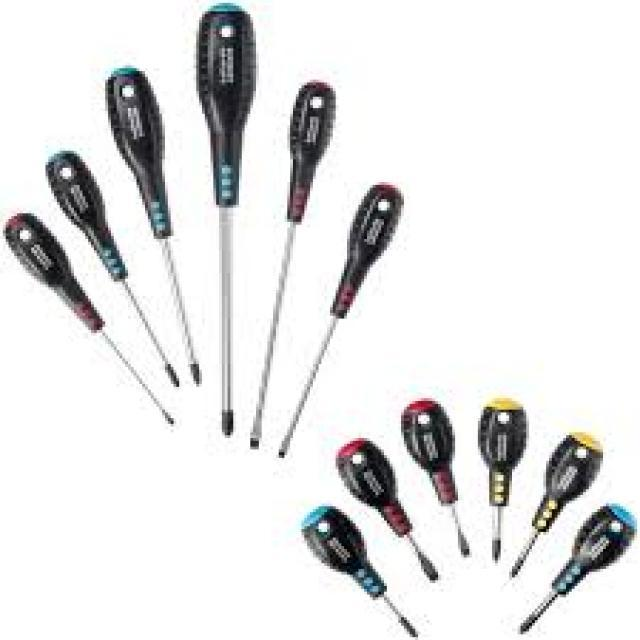screwdriver: (238, 78, 338, 462), (4, 210, 178, 427), (273, 180, 407, 460), (38, 148, 180, 387), (100, 65, 204, 387), (195, 3, 258, 444), (332, 435, 450, 583), (515, 500, 640, 638), (504, 430, 608, 588), (298, 505, 422, 636), (402, 397, 470, 559), (476, 396, 530, 568)
